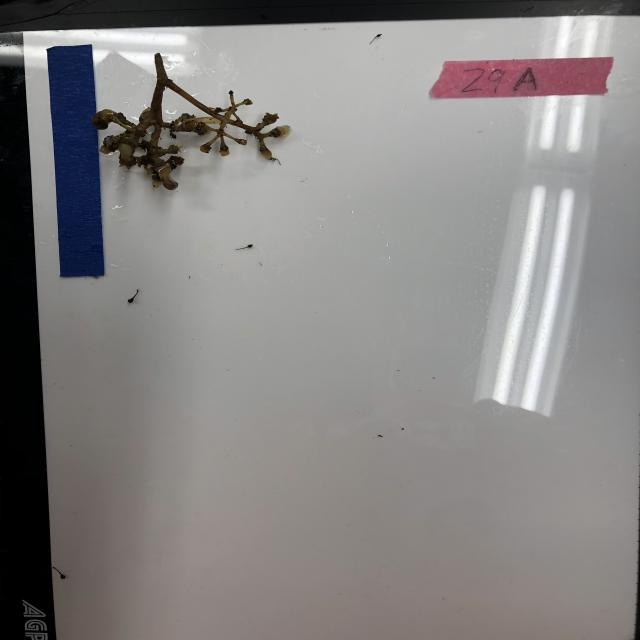index: (428, 58, 616, 100)
measure_label: (45, 41, 107, 280)
rachis_cluster: (92, 52, 293, 193)
